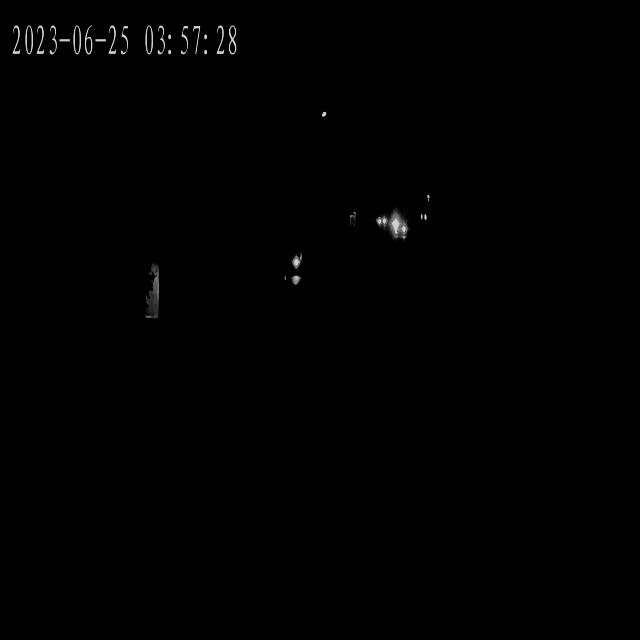Car: (388, 226, 408, 243), (388, 223, 408, 240), (371, 215, 390, 231)
